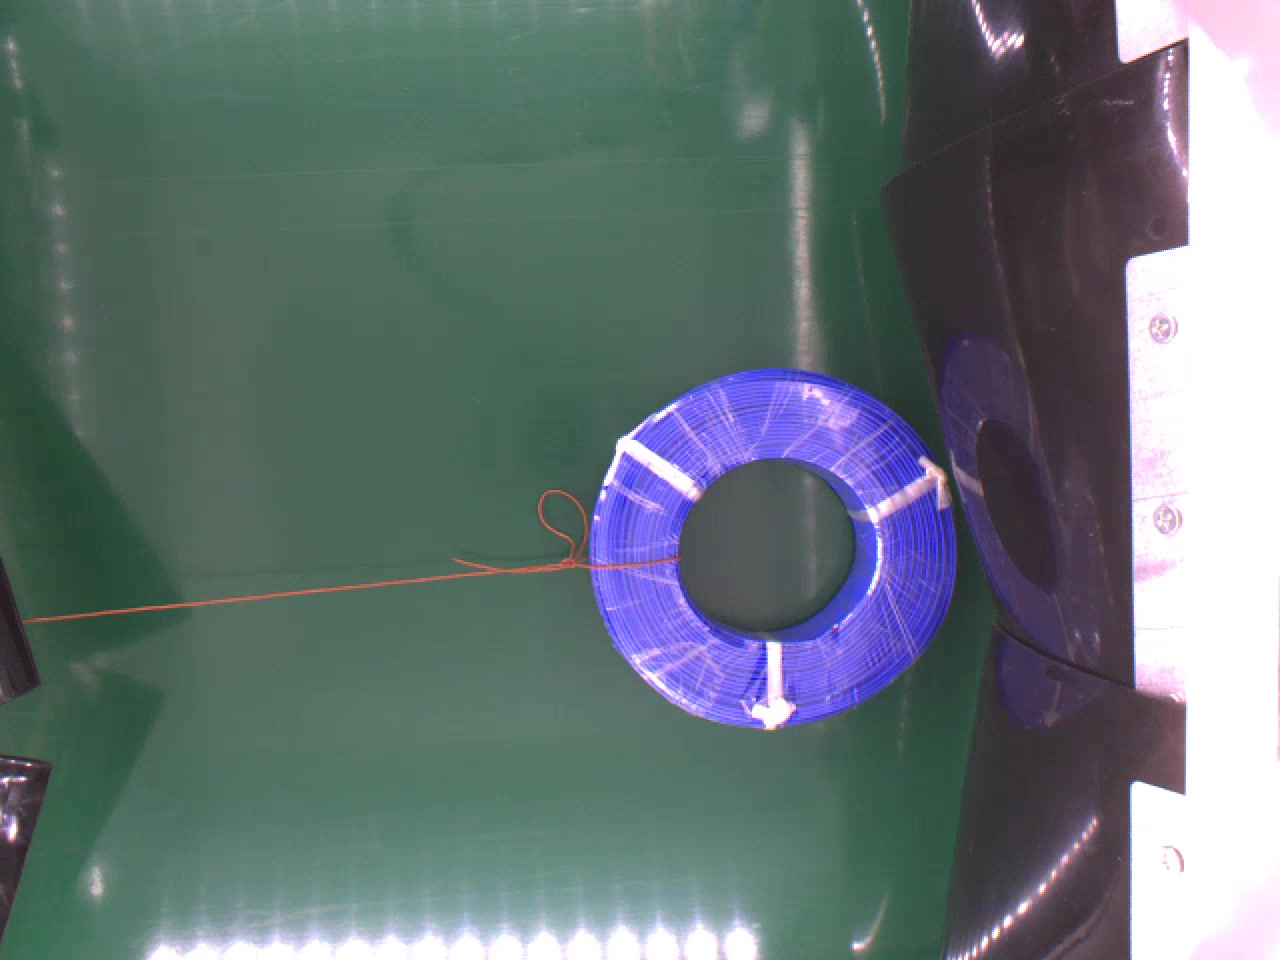blue: (590, 366, 968, 724)
